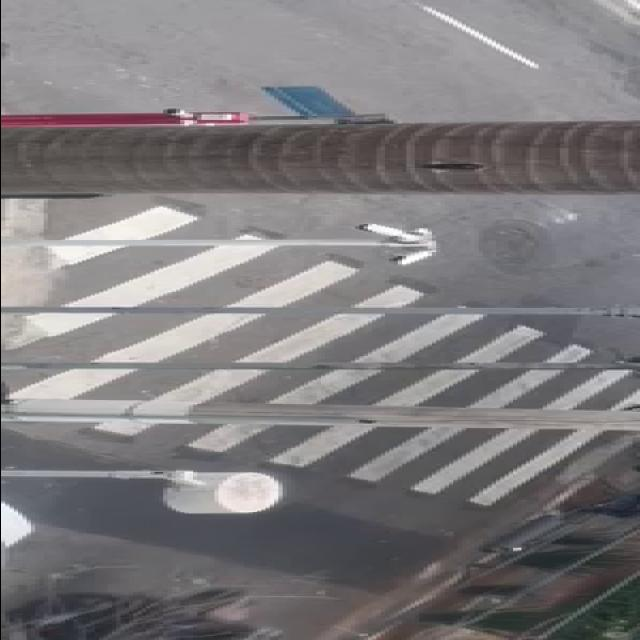motorbike: (4, 582, 280, 639)
